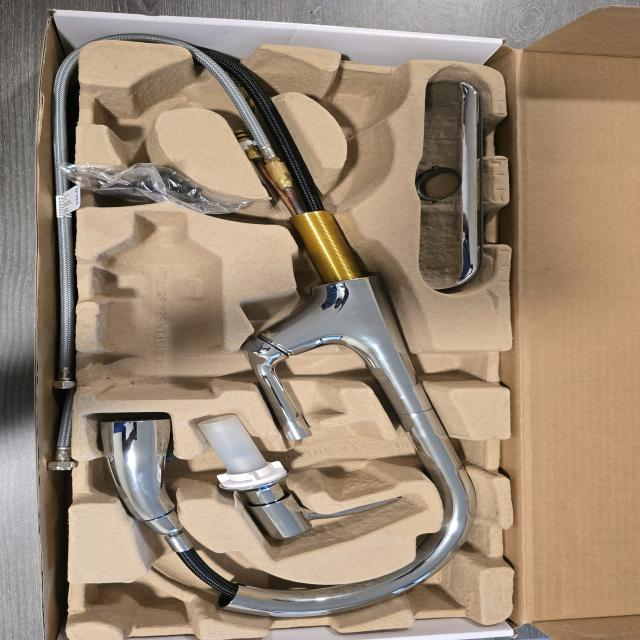1: (99, 42, 477, 619)
2: (194, 413, 404, 544)
3m: (93, 212, 222, 399)
4: (416, 80, 481, 292)
5m: (324, 80, 394, 132)
6m: (93, 74, 191, 148)
7: (58, 163, 272, 216)
